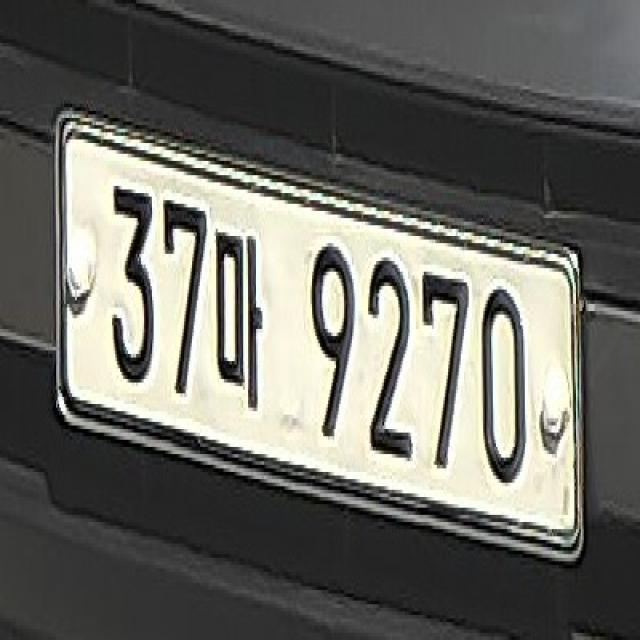0: (478, 283, 528, 487)
2: (365, 250, 416, 465)
3: (110, 182, 156, 382)
7: (158, 190, 210, 400), (419, 268, 472, 468)
9: (307, 236, 355, 440)
license_plate: (53, 108, 584, 562)
ma: (213, 229, 262, 415)
